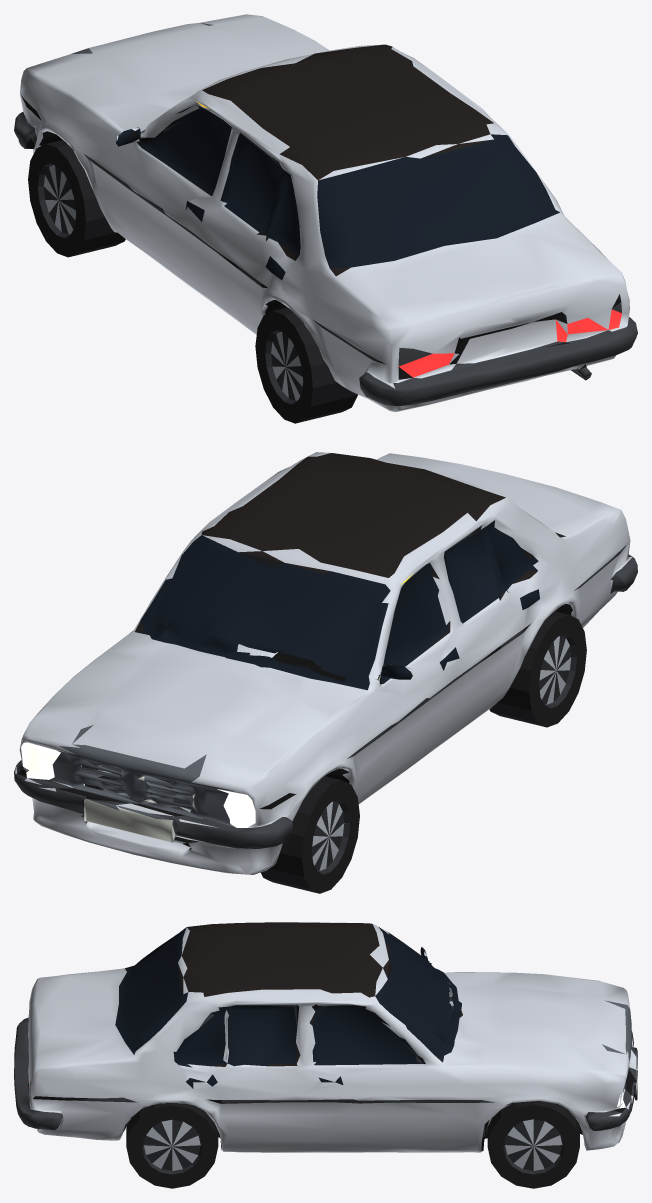
File: car_ascona.glb
3 views of the same model, one above another, from view 1: azimuth 30°, elevation 25°; view 2: azimuth 150°, elevation 25°; view 3: azimuth 270°, elevation 25° (orthographic). The views are drawn at different scales.
Visible parts, largest first — view 1: body, wheel_r, wheel_f; view 2: body, wheel_f, wheel_r; view 3: body, wheel_f, wheel_r.
Boxes of the visible parts, x1,y1,x2,y2 form: body: [14, 14, 637, 411]; wheel_r: [255, 307, 357, 423]; wheel_f: [28, 140, 125, 257]; body: [14, 452, 637, 874]; wheel_f: [260, 776, 359, 893]; wheel_r: [489, 611, 586, 727]; body: [14, 922, 637, 1152]; wheel_f: [487, 1101, 579, 1188]; wheel_r: [126, 1103, 218, 1188].
Size of the model in its own units: 1.81 by 1.43 by 4.32.
2 materials, 1 textured.
